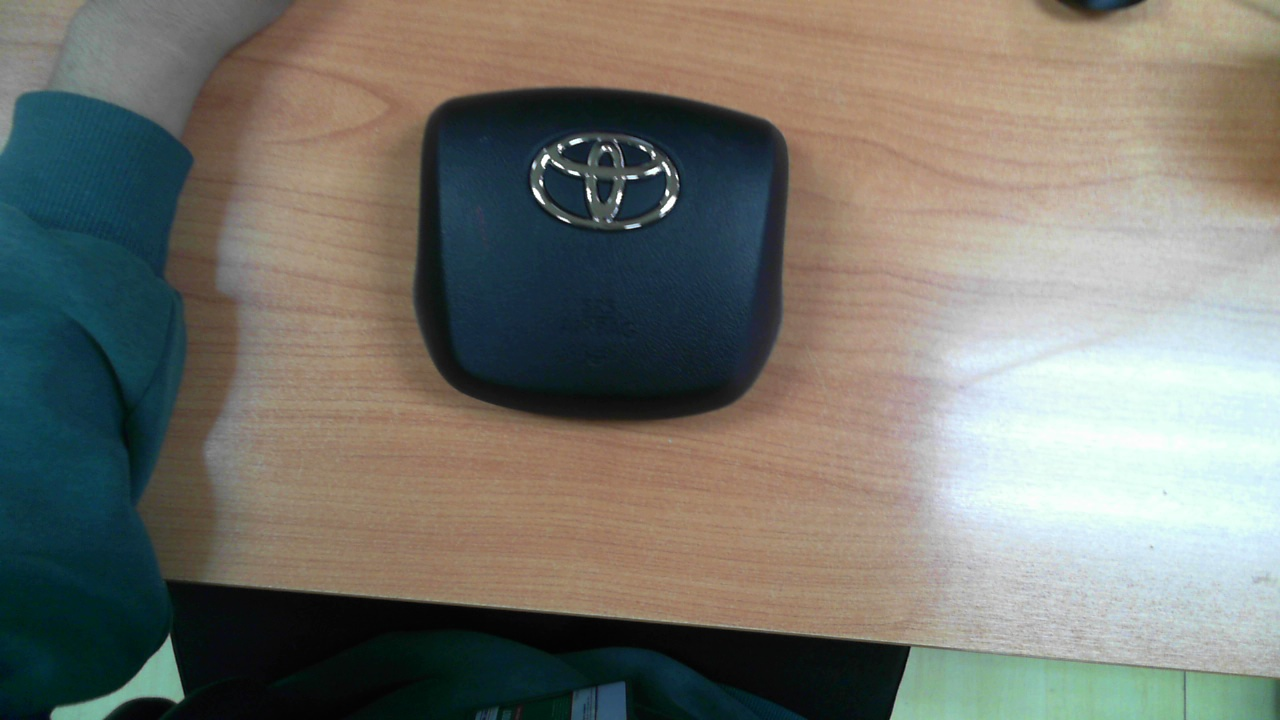Airbag: (412, 88, 789, 422)
Toyota: (530, 132, 680, 230)
